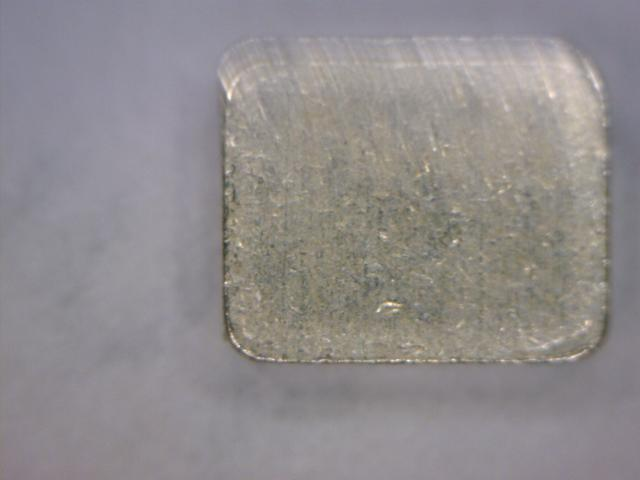ok: (219, 37, 625, 376)
